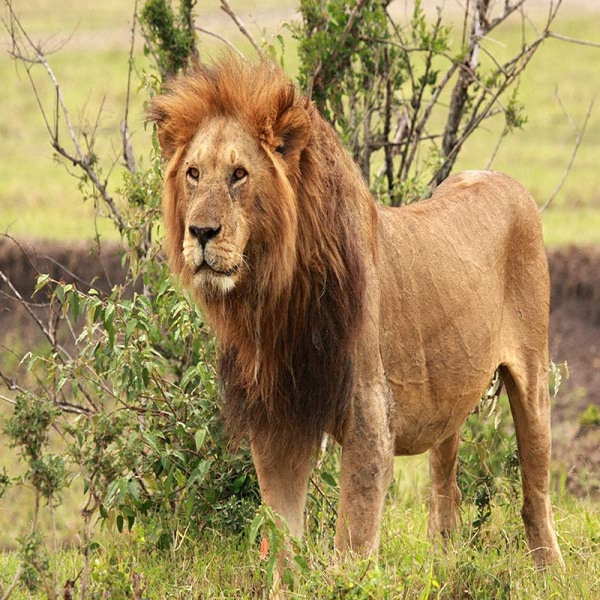Lion: (145, 53, 570, 587)
